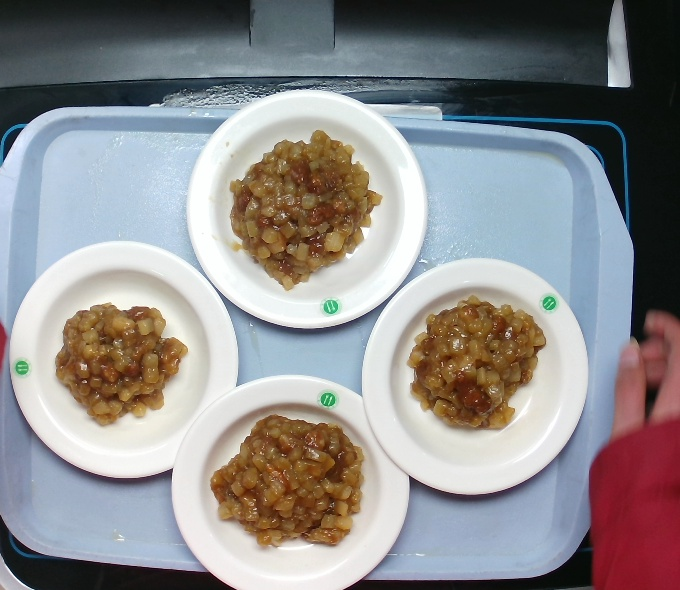wcq-RouYuan: (219, 122, 394, 282), (397, 276, 552, 443), (210, 402, 363, 558), (44, 285, 200, 427)
